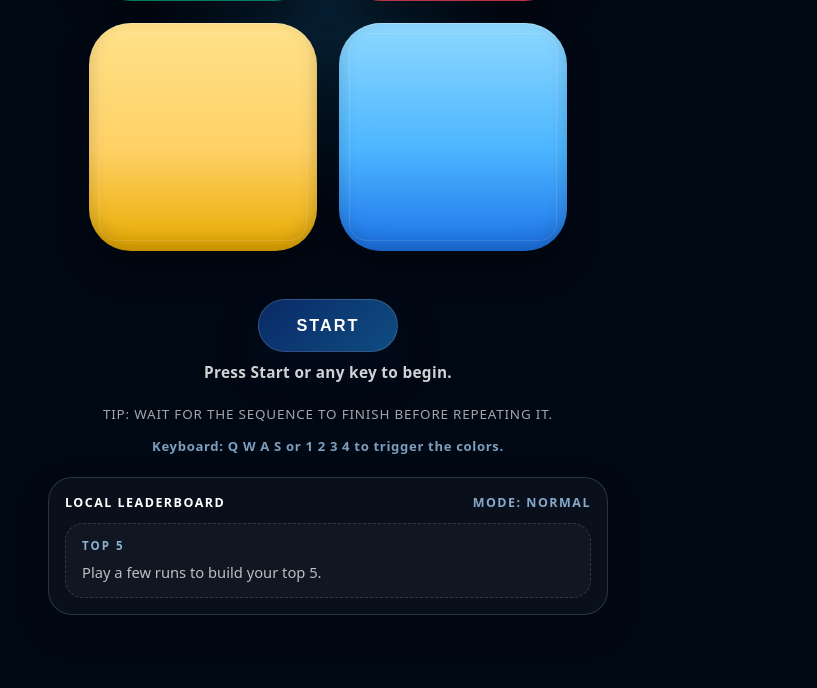
App › starts a new game and shows the first level
(page scrolled)
Click the button "Start" at (328, 326), box [258, 299, 398, 352]
Wait 1200 ms
(page scrolled)
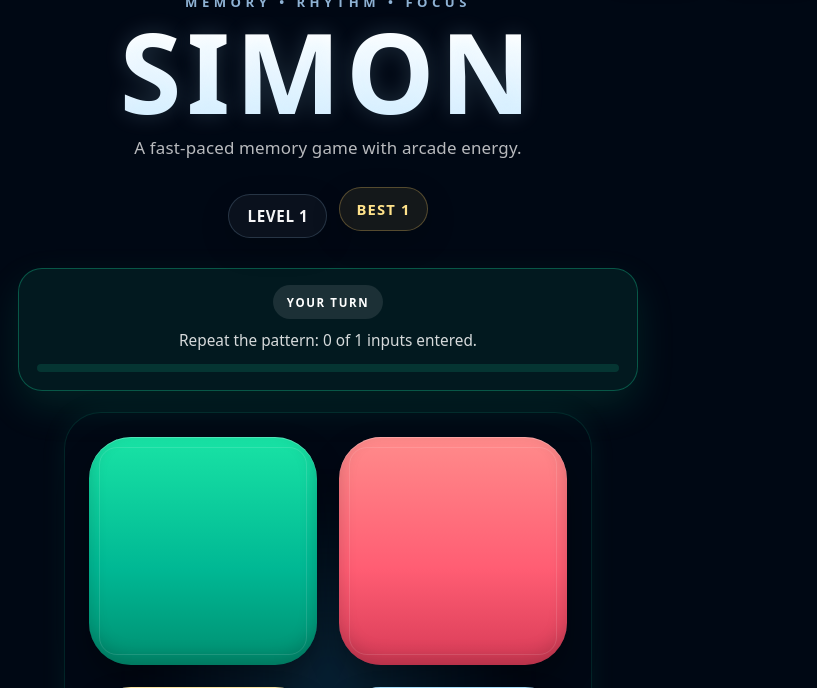
Expected: the button named "Green pad. Top left." is enabled, [89, 437, 317, 665]
Result: the text "Level 1" is shown at [228, 194, 327, 238]
Result: the text "Best 1" is shown at [339, 186, 428, 230]
